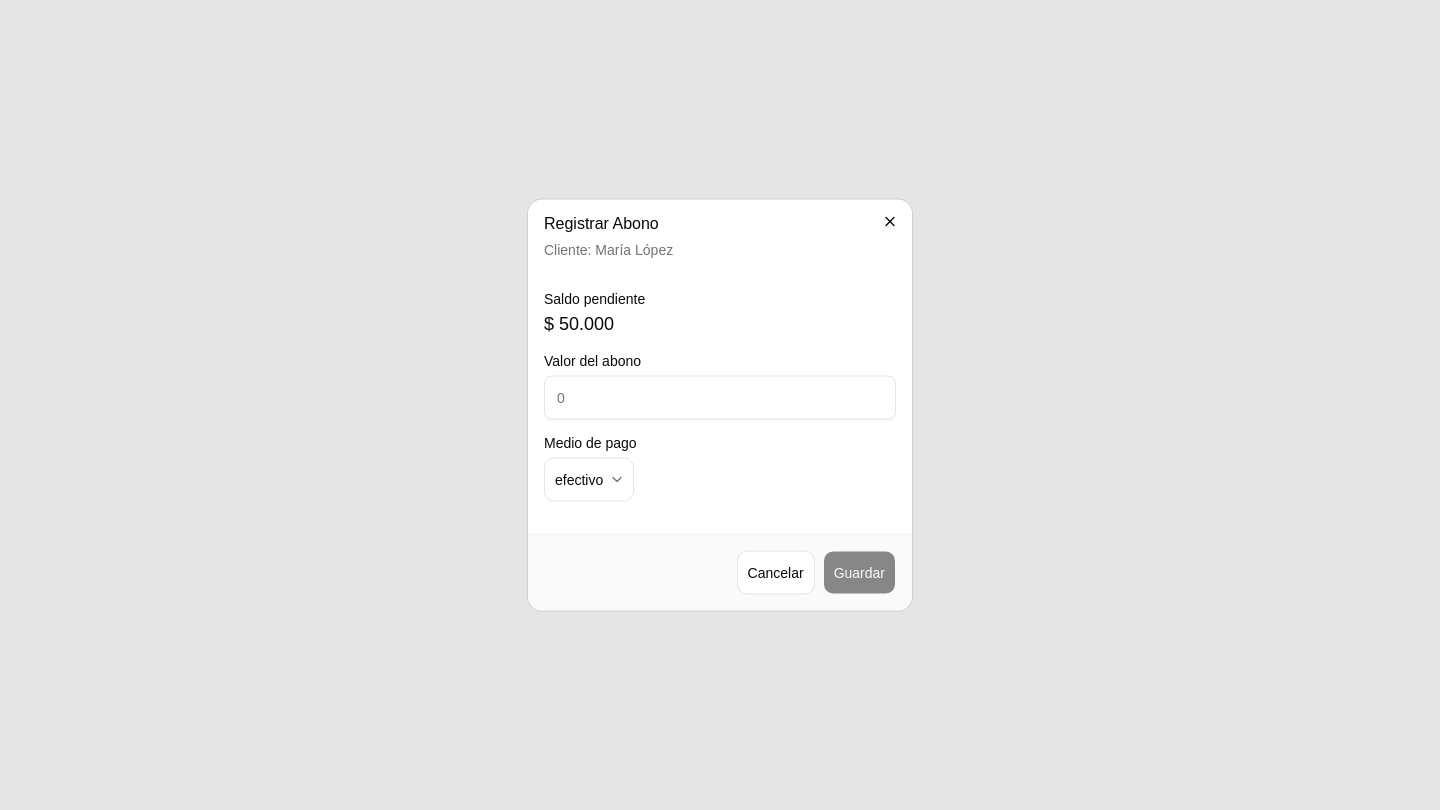
it: FormAbono › muestra error cuando valor excede saldo pendiente
Type "99999" into the number field at (720, 398), box [544,376,896,420]
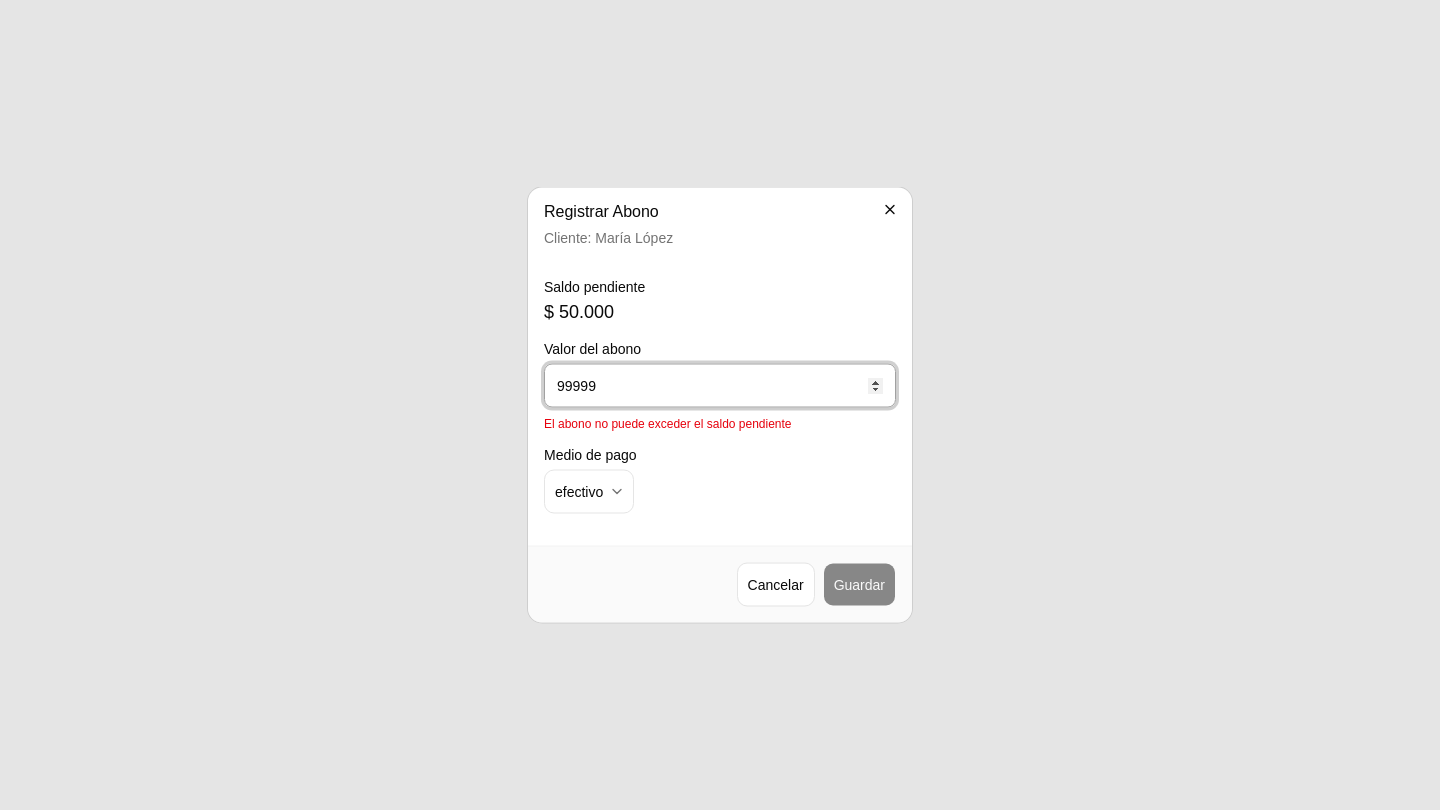
Result: the text "El abono no puede exceder el saldo pendiente" is shown at [544,416,792,430]
